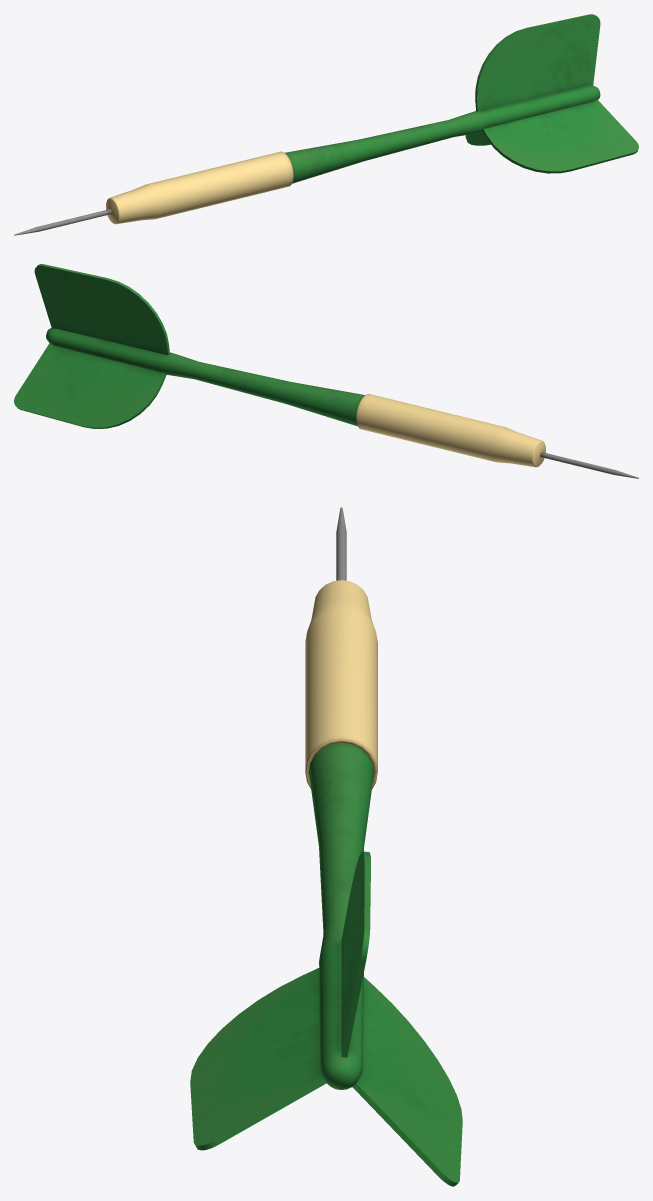
File: SM_DartsArrow_02.fbx
3 views of the same model, one above another, from view 1: azimuth 30°, elevation 25°; view 2: azimuth 150°, elevation 25°; view 3: azimuth 270°, elevation 25° (orthographic). The views are drawn at different scales.
Parts seen in each view (by area): view 1: SM_DartsArrow_02_LOD0; view 2: SM_DartsArrow_02_LOD0; view 3: SM_DartsArrow_02_LOD0.
Part boxes in pixels (x1,y1,x2,y2): SM_DartsArrow_02_LOD0: (14,14,638,235); SM_DartsArrow_02_LOD0: (14,264,638,478); SM_DartsArrow_02_LOD0: (190,507,462,1186).
Size of the model in its own units: 14.76 by 2.95 by 3.11.
1 material, 1 textured.
